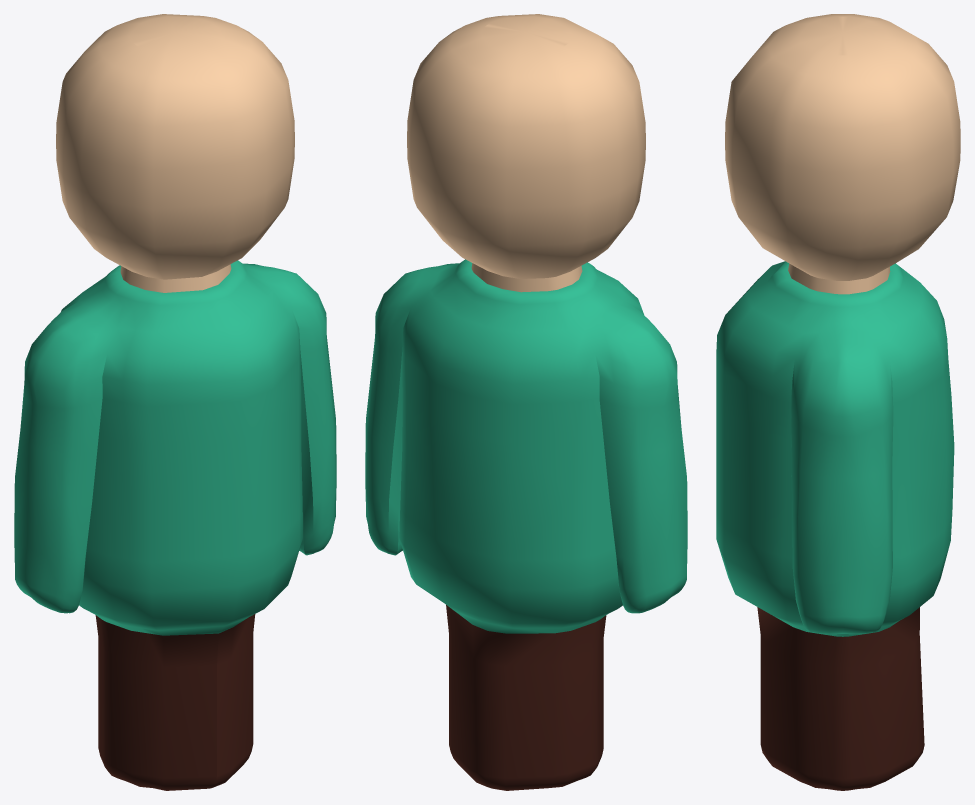
Rendered from male 2.fbx.
3 views of the same model, side by side, from view 1: azimuth 30°, elevation 25°; view 2: azimuth 150°, elevation 25°; view 3: azimuth 270°, elevation 25° (orthographic).
Visible parts, largest first — view 1: male; view 2: male; view 3: male.
Part boxes in pixels (bbox=[...]): male: bbox=[14, 14, 336, 790]; male: bbox=[365, 14, 687, 790]; male: bbox=[716, 14, 960, 790].
Bounding box in the file's own units: 0.182 × 0.417 × 0.1263.
